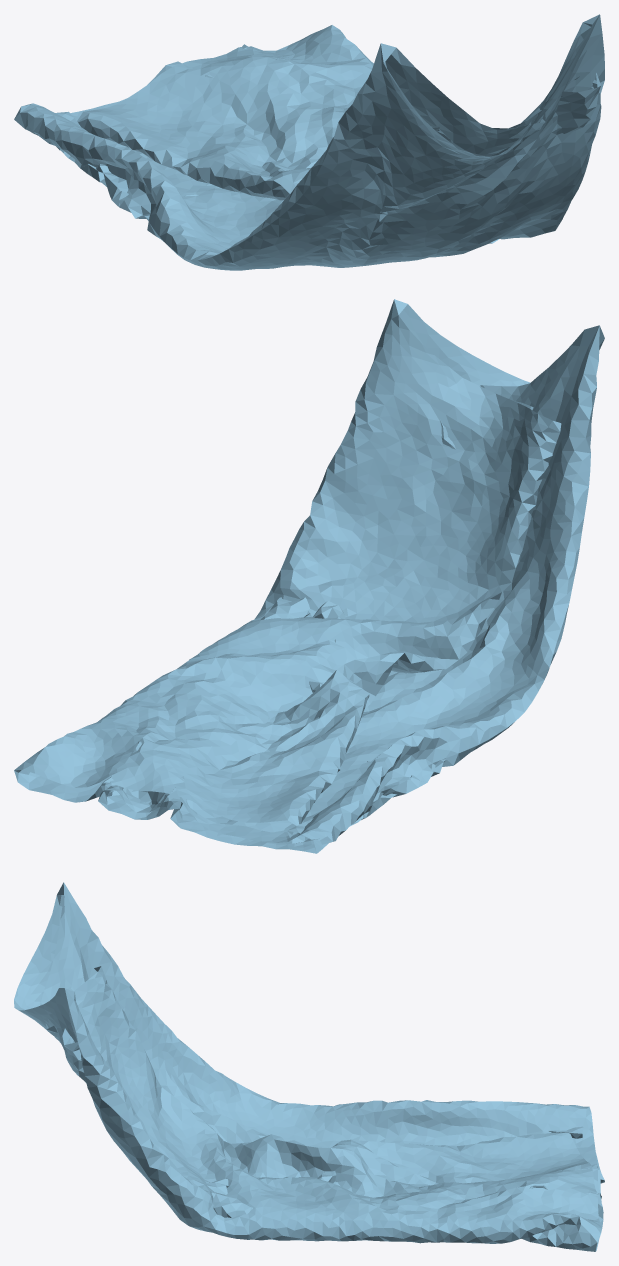
The model's file is frame_05.glb.
3 views of the same model, one above another, from view 1: azimuth 30°, elevation 25°; view 2: azimuth 150°, elevation 25°; view 3: azimuth 270°, elevation 25° (orthographic). The views are drawn at different scales.
Parts seen in each view (by area): view 1: frame_05.obj; view 2: frame_05.obj; view 3: frame_05.obj.
Part boxes in pixels (x1,y1,x2,y2): frame_05.obj: (14,14,604,270); frame_05.obj: (14,299,604,853); frame_05.obj: (14,882,604,1251).
Size of the model in its own units: 0.8883 by 0.7966 by 1.62.
